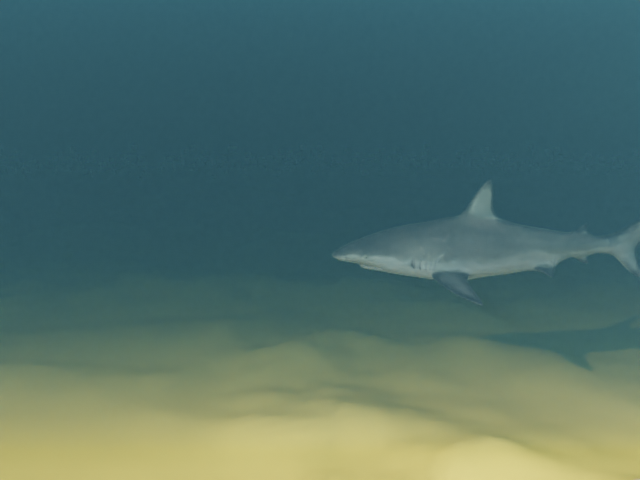Carribean Shark.001: (331, 179, 640, 305)
